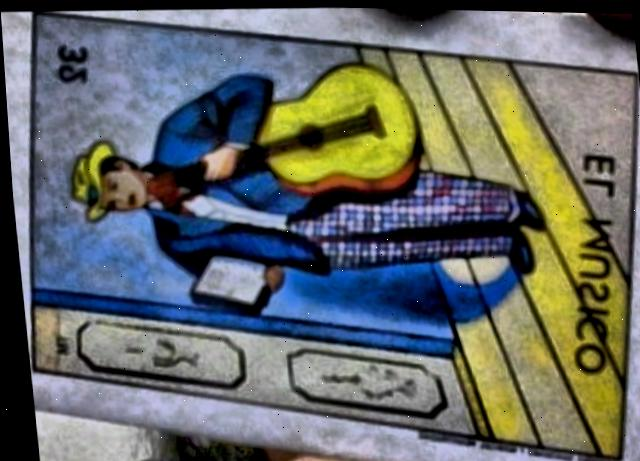El Musico: (26, 11, 628, 451)
